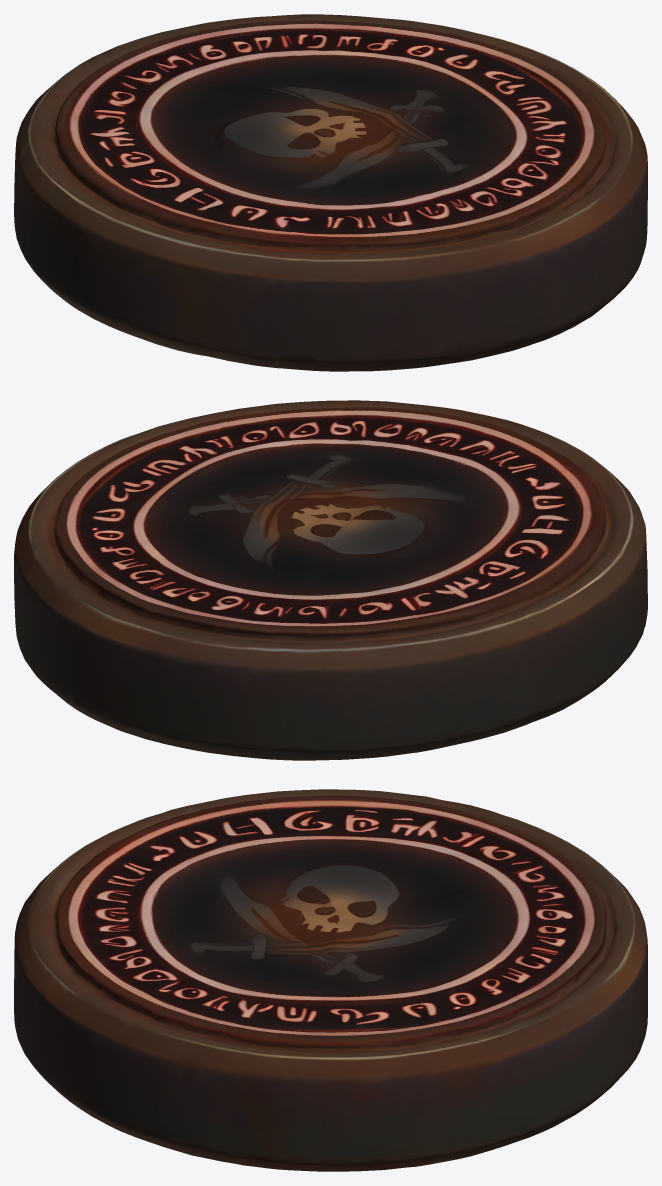
Rendered from disc_ganon.glb.
3 views of the same model, one above another, from view 1: azimuth 30°, elevation 25°; view 2: azimuth 150°, elevation 25°; view 3: azimuth 270°, elevation 25° (orthographic).
Parts seen in each view (by area): view 1: tripo_node_be7b5999-5018-45ac-97c5-4ccc7f6f727c; view 2: tripo_node_be7b5999-5018-45ac-97c5-4ccc7f6f727c; view 3: tripo_node_be7b5999-5018-45ac-97c5-4ccc7f6f727c.
Boxes of the visible parts, x1,y1,x2,y2 form: tripo_node_be7b5999-5018-45ac-97c5-4ccc7f6f727c: (14, 14, 647, 371); tripo_node_be7b5999-5018-45ac-97c5-4ccc7f6f727c: (14, 400, 647, 760); tripo_node_be7b5999-5018-45ac-97c5-4ccc7f6f727c: (14, 789, 647, 1171).
Bounding box in the file's own units: 0.9487 × 0.2295 × 0.9496.
1 material, 1 textured.
